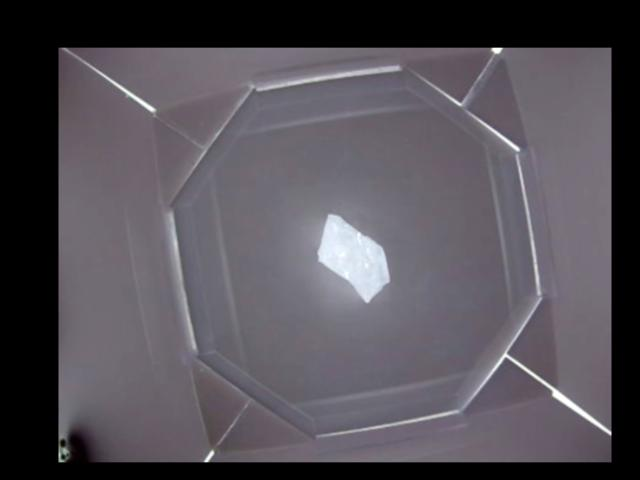China: (318, 213, 392, 303)
